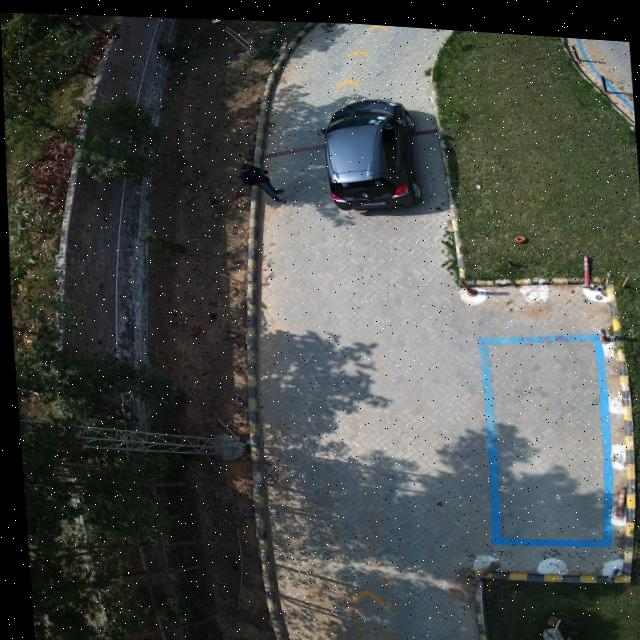car: (323, 90, 425, 206)
